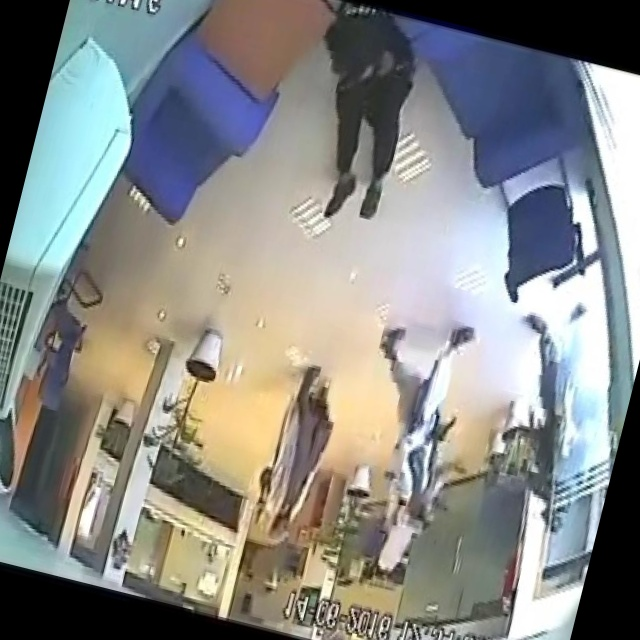gun: (430, 410, 460, 454), (249, 504, 264, 530)
